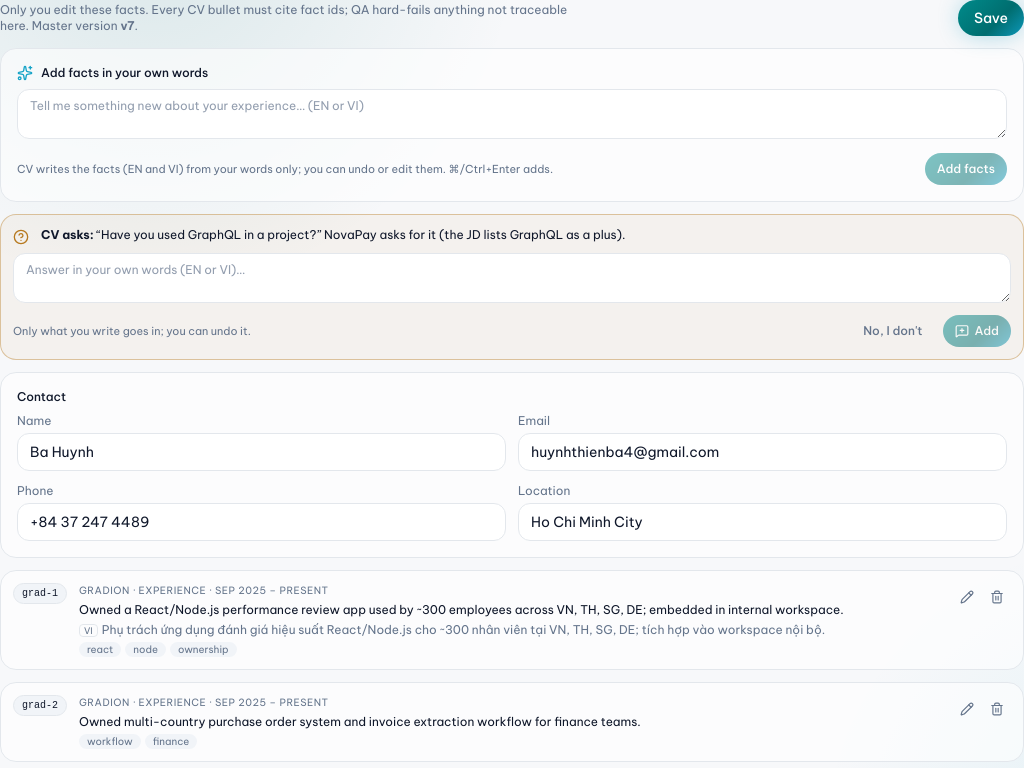
Test case: MasterCvScreen (UC-20) › asks to reload when the master CV changed since it was opened (409 master_cv_changed)
Click the button named "Edit grad-2": (967, 709) x1=953 y1=695 x2=981 y2=723
(page scrolled)
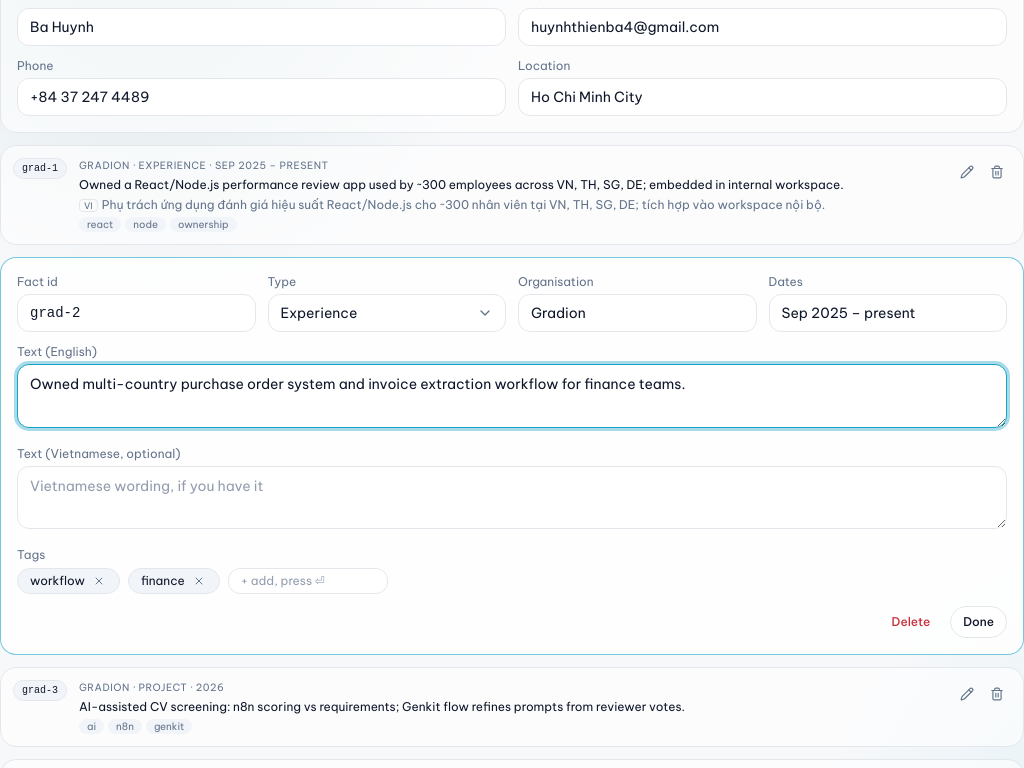
In the text box labelled "Text (English)": (512, 396) x1=17 y1=364 x2=1007 y2=428, type " Edited."
(page scrolled)
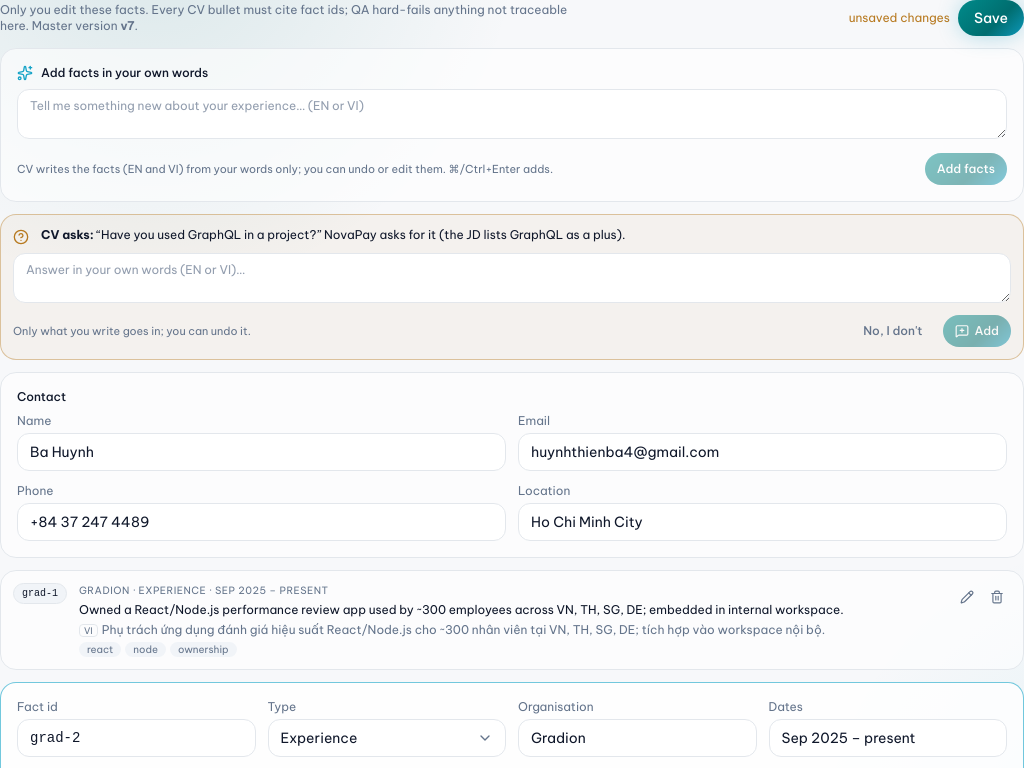
Click the button with test id "cv-save": (991, 18) x1=958 y1=0 x2=1023 y2=36
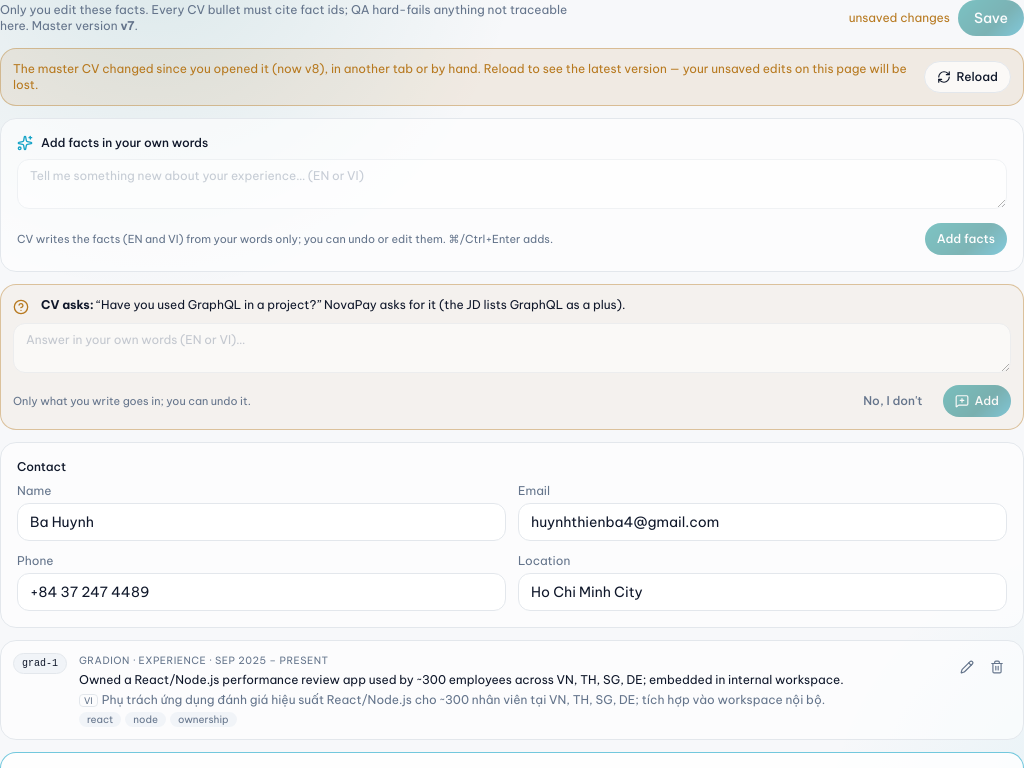
Result: the message with test id "cv-conflict" shows "The master CV changed since you opened it (now v8)" at x1=0 y1=48 x2=1023 y2=106
Result: the button with test id "cv-save" is disabled at x1=958 y1=0 x2=1023 y2=36
Click the button "Reload": (967, 77) x1=924 y1=61 x2=1011 y2=93
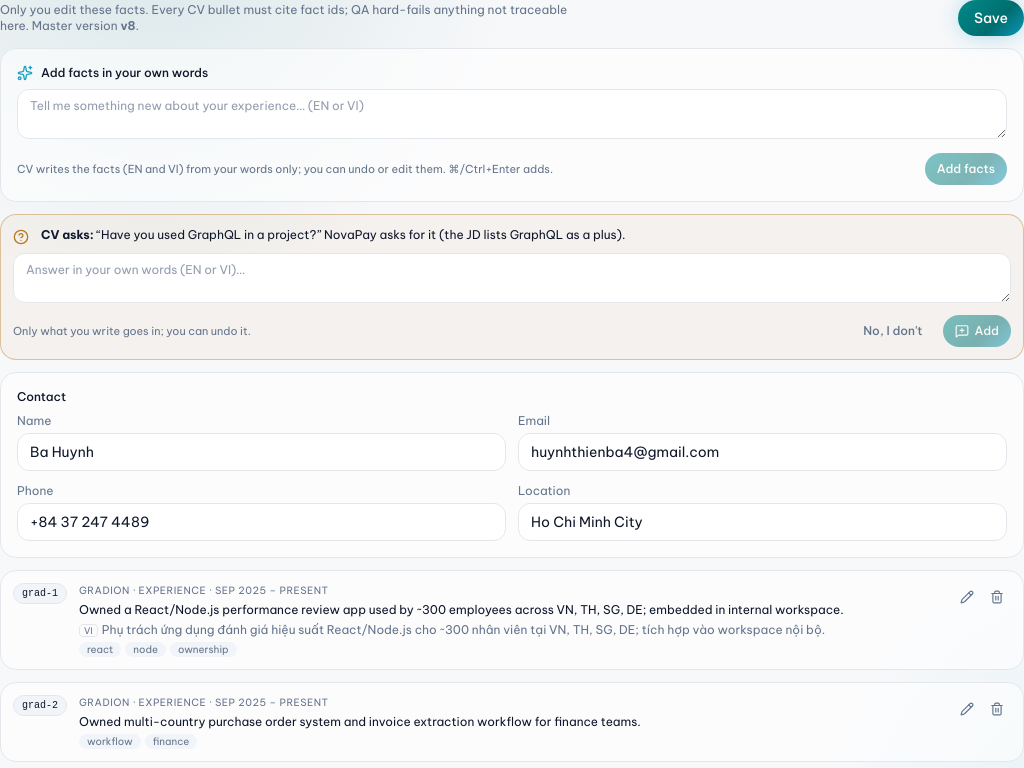
Result: the element with test id "cv-header" shows "Master version v8." at x1=0 y1=2 x2=576 y2=34
Result: the message with test id "cv-conflict" is gone
Result: the text "unsaved changes" is gone
